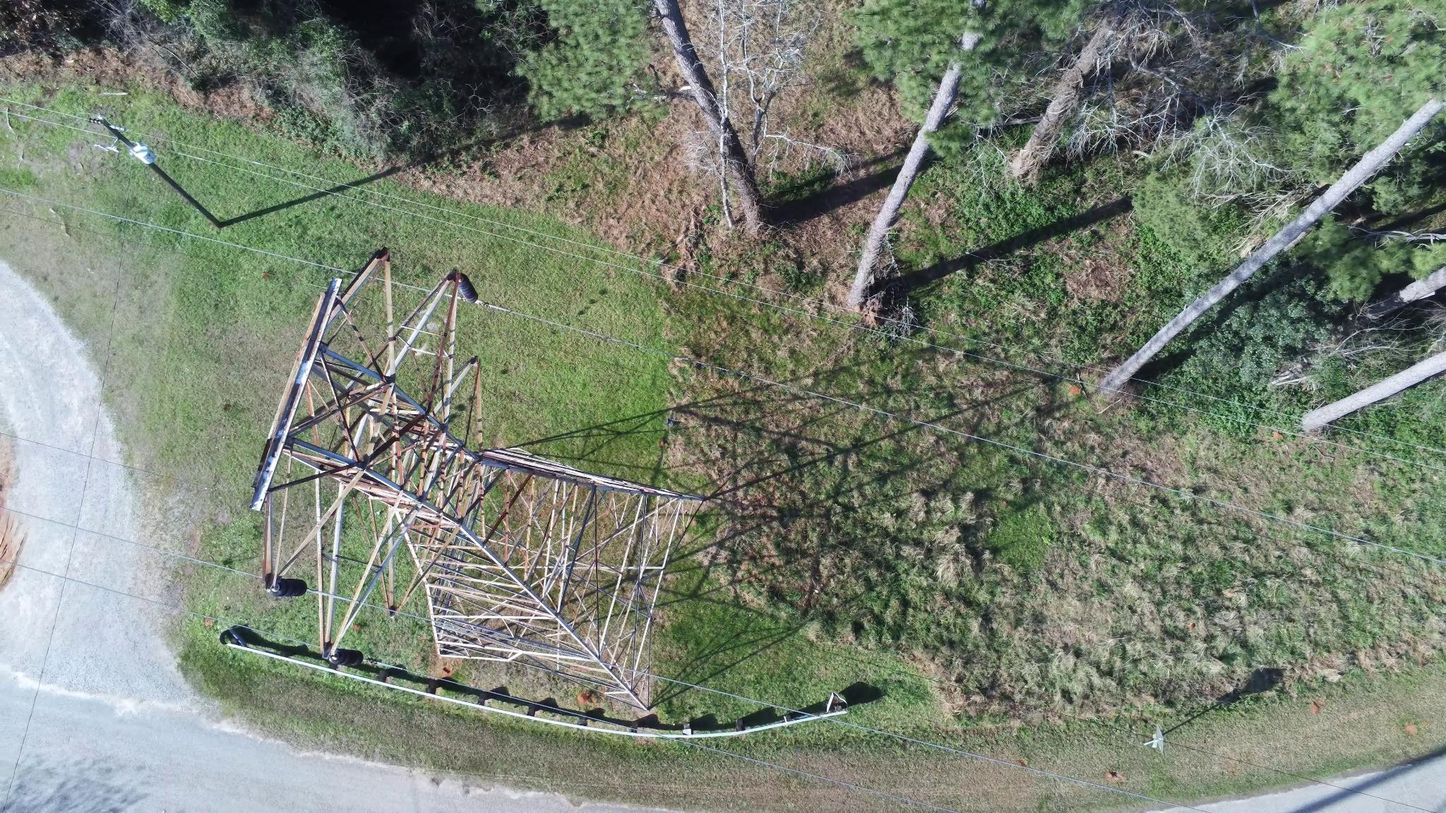tower: (246, 245, 709, 711)
